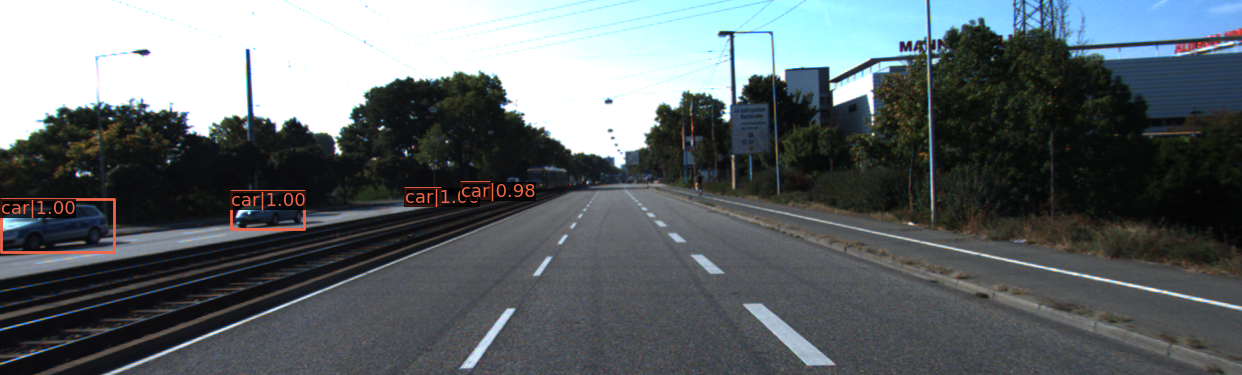car: (1, 199, 119, 256), (232, 193, 306, 231)
